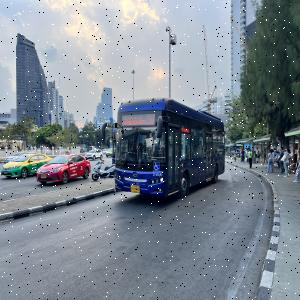Bus Line Number: (146, 112, 157, 126)
Bus Side Number: (152, 172, 163, 177)
Destination Sign: (122, 114, 146, 126)
TSB-Bus: (114, 99, 226, 199)
